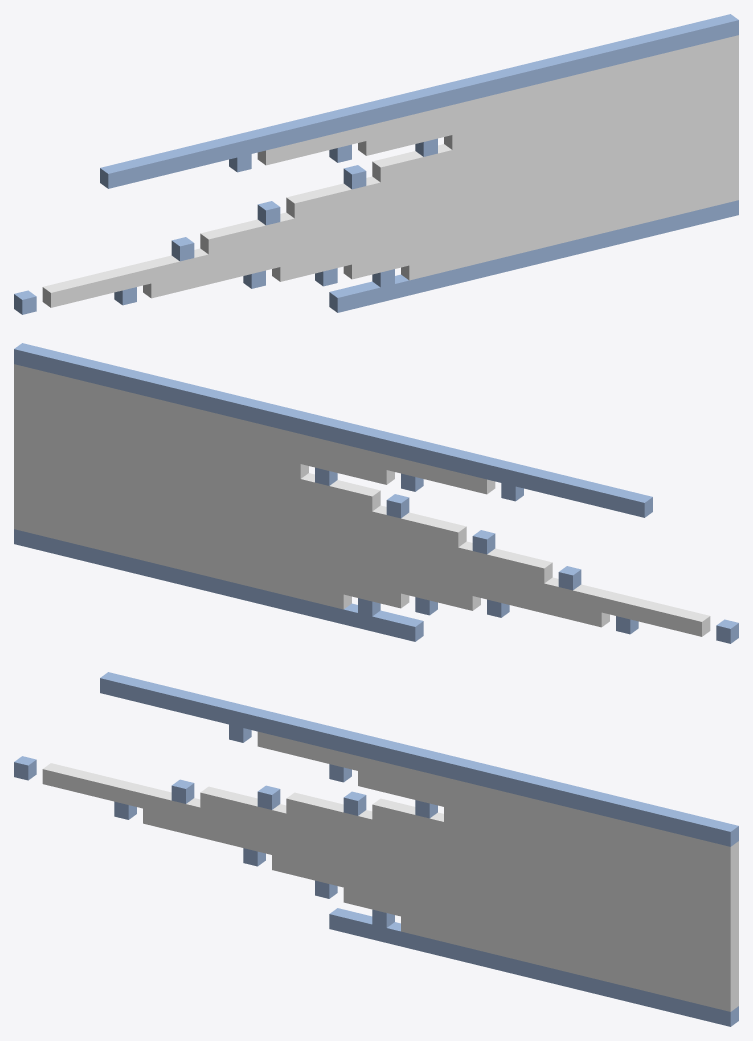
The model's file is Fight_739_2_19_fx.obj.
3 renders of one model, top to bottom at view 1: azimuth 30°, elevation 25°; view 2: azimuth 150°, elevation 25°; view 3: azimuth 330°, elevation 25°, orthographic.
Bounding box in the file's own units: 5 × 1.3 × 0.1.
1 material, 1 textured.
